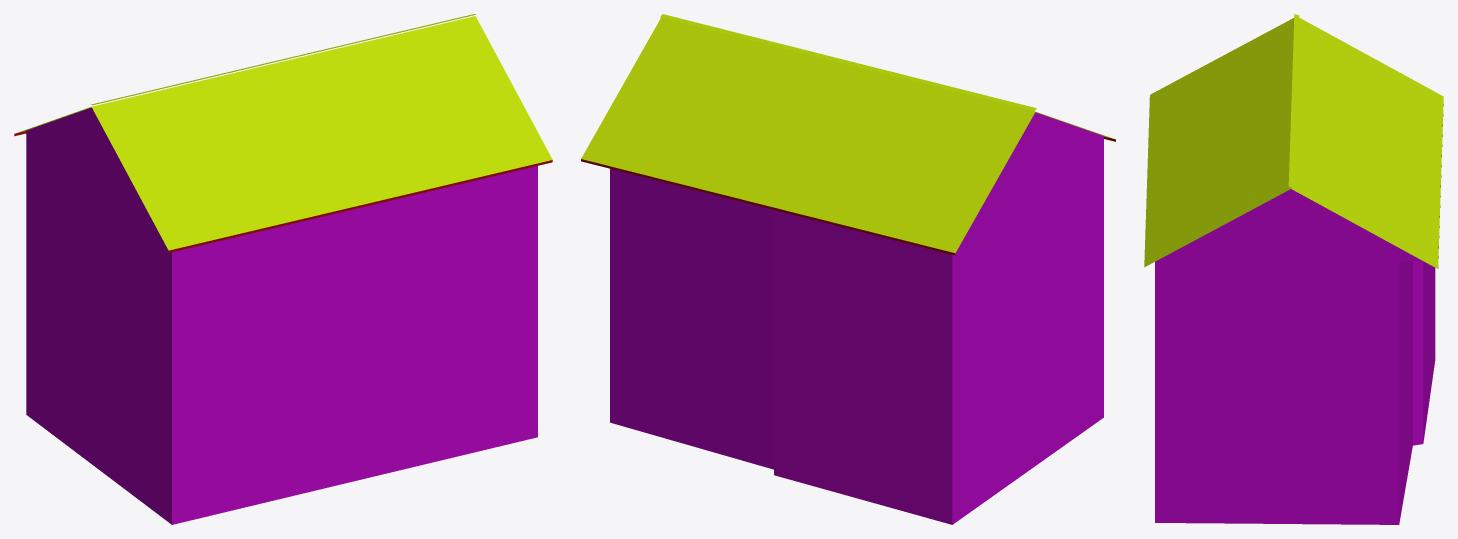
File: bgj_302.glb
3 renders of one model, left to right at view 1: azimuth 30°, elevation 25°; view 2: azimuth 150°, elevation 25°; view 3: azimuth 270°, elevation 25°, orthographic. The views are drawn at different scales.
Parts seen in each view (by area): view 1: bgj_302; view 2: bgj_302; view 3: bgj_302.
Boxes of the visible parts, x1,y1,x2,y2 form: bgj_302: (14, 14, 552, 524); bgj_302: (581, 14, 1115, 524); bgj_302: (1144, 14, 1443, 524).
Size of the model in its own units: 19.96 by 18.2 by 14.48.
